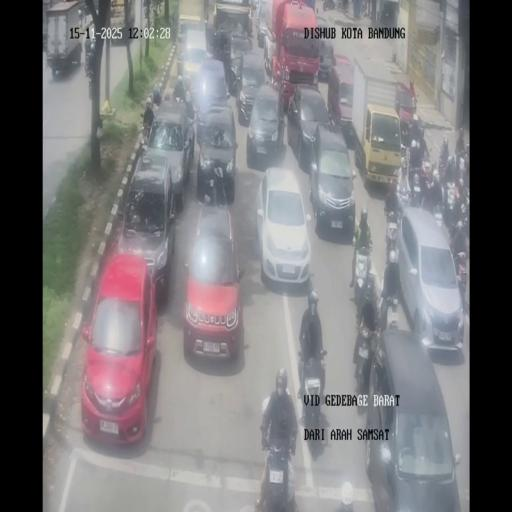car: (364, 333, 463, 508), (80, 250, 159, 441), (395, 207, 465, 354), (183, 198, 245, 361), (255, 163, 311, 288), (143, 99, 194, 203), (196, 105, 238, 202), (288, 84, 330, 171), (328, 56, 356, 138), (236, 53, 266, 124), (180, 27, 208, 86), (313, 17, 335, 78), (256, 2, 272, 50), (250, 0, 259, 10)
motorcycle: (256, 424, 298, 510), (296, 351, 328, 448), (352, 320, 378, 406), (351, 244, 374, 314), (450, 245, 470, 313), (442, 186, 468, 236), (383, 278, 401, 331), (384, 223, 401, 268), (418, 160, 435, 205), (172, 80, 192, 109), (184, 98, 196, 146), (432, 200, 446, 231), (398, 178, 412, 206), (458, 154, 469, 189), (400, 113, 412, 145), (138, 123, 150, 155), (417, 130, 429, 162), (438, 155, 448, 185), (84, 54, 94, 82), (150, 92, 162, 114), (246, 2, 253, 38), (360, 1, 370, 17), (339, 0, 349, 12), (323, 0, 329, 11)
truck: (350, 54, 405, 182), (265, 0, 320, 107), (45, 2, 85, 76), (98, 0, 138, 45)
